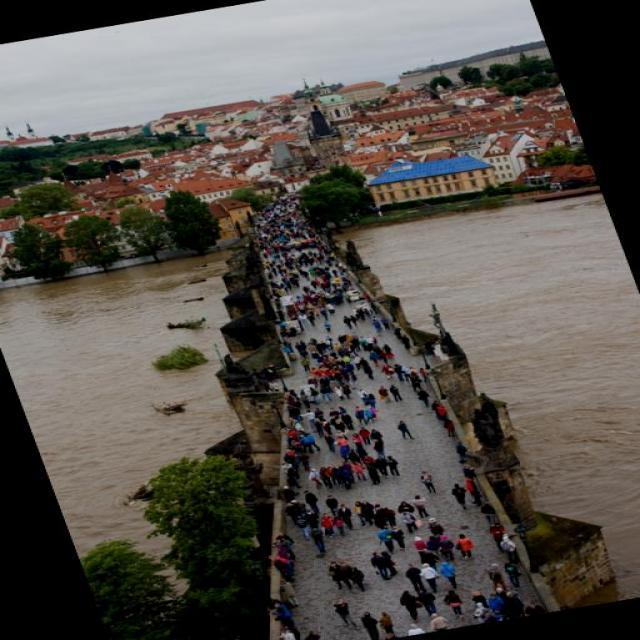flood: (350, 169, 639, 615), (0, 229, 315, 546)
